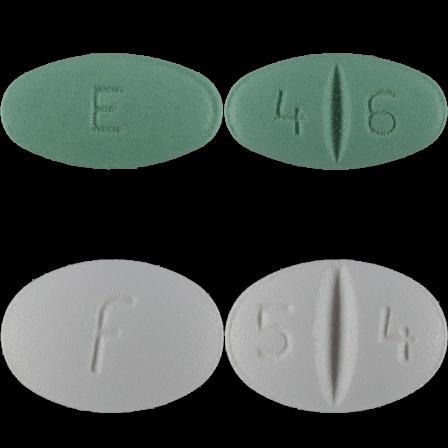68788-9712: (0, 0, 224, 224)
